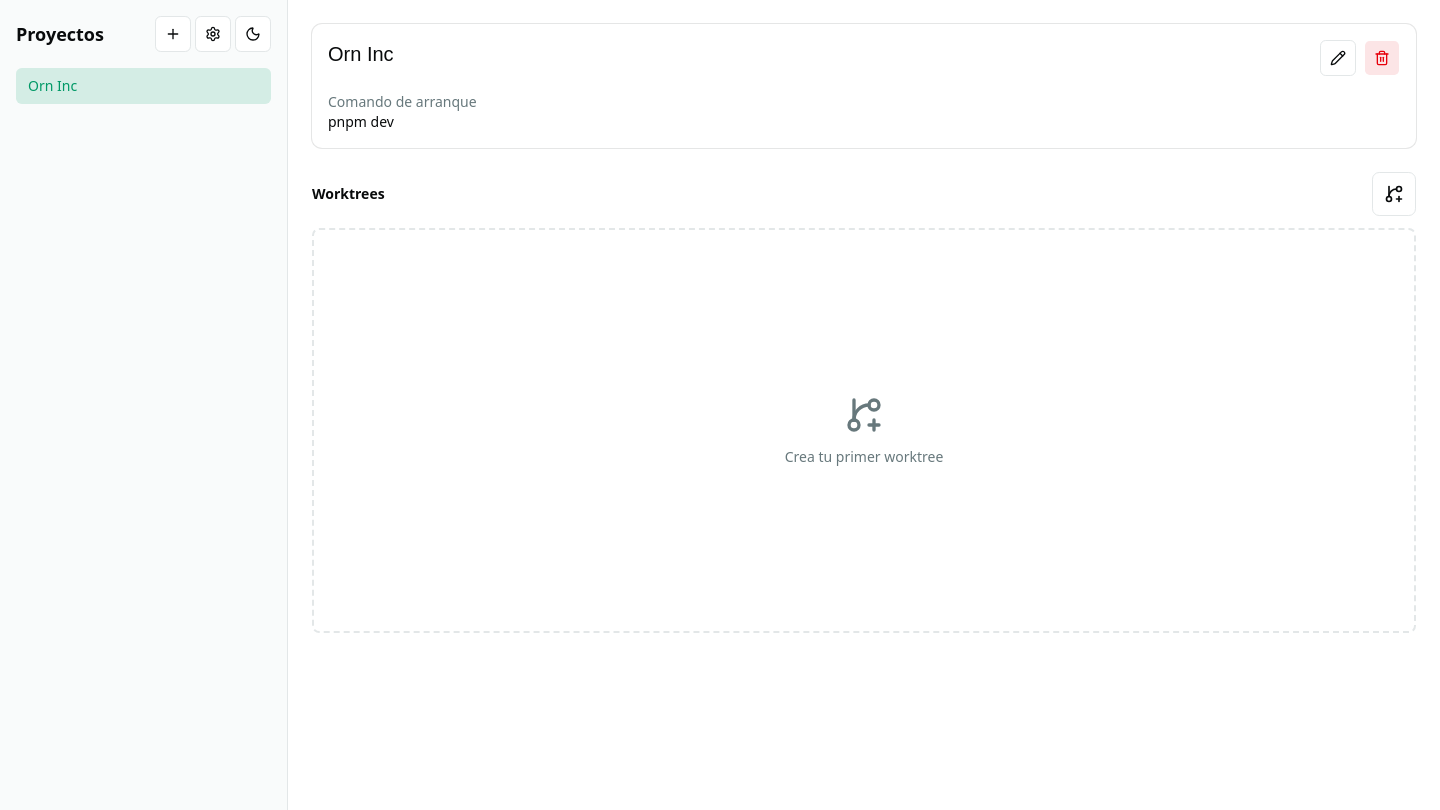
app routes › should show the log history when opening the logs dialog for a worktree
Expected: the text "Crea tu primer worktree" is shown, [785,446,943,466]
Click the button named "Crear worktree" at point(1394, 194), box [1372,172,1416,216]
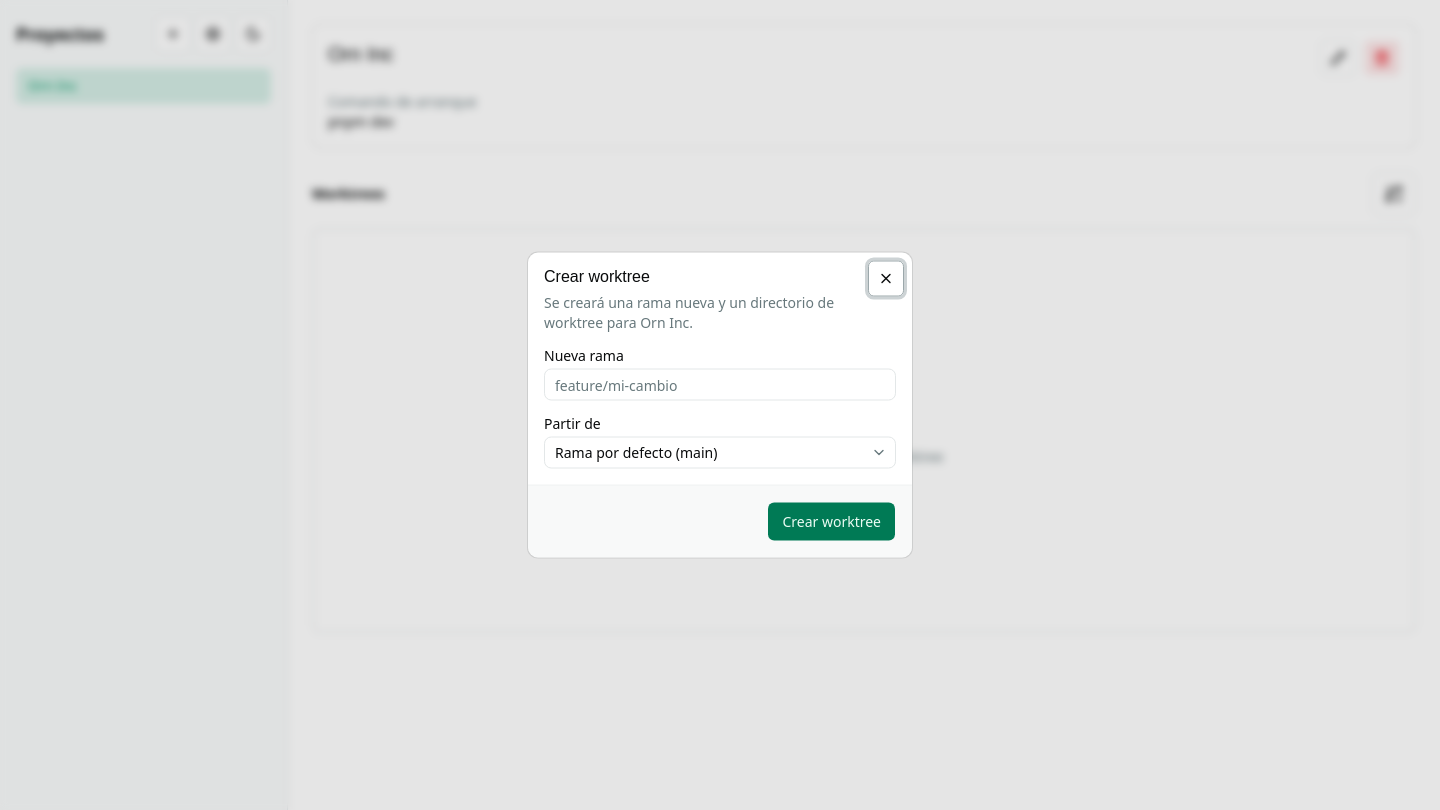
Type "feature-a" into the field labelled "Nueva rama" at point(720, 384), box [544,368,896,400]
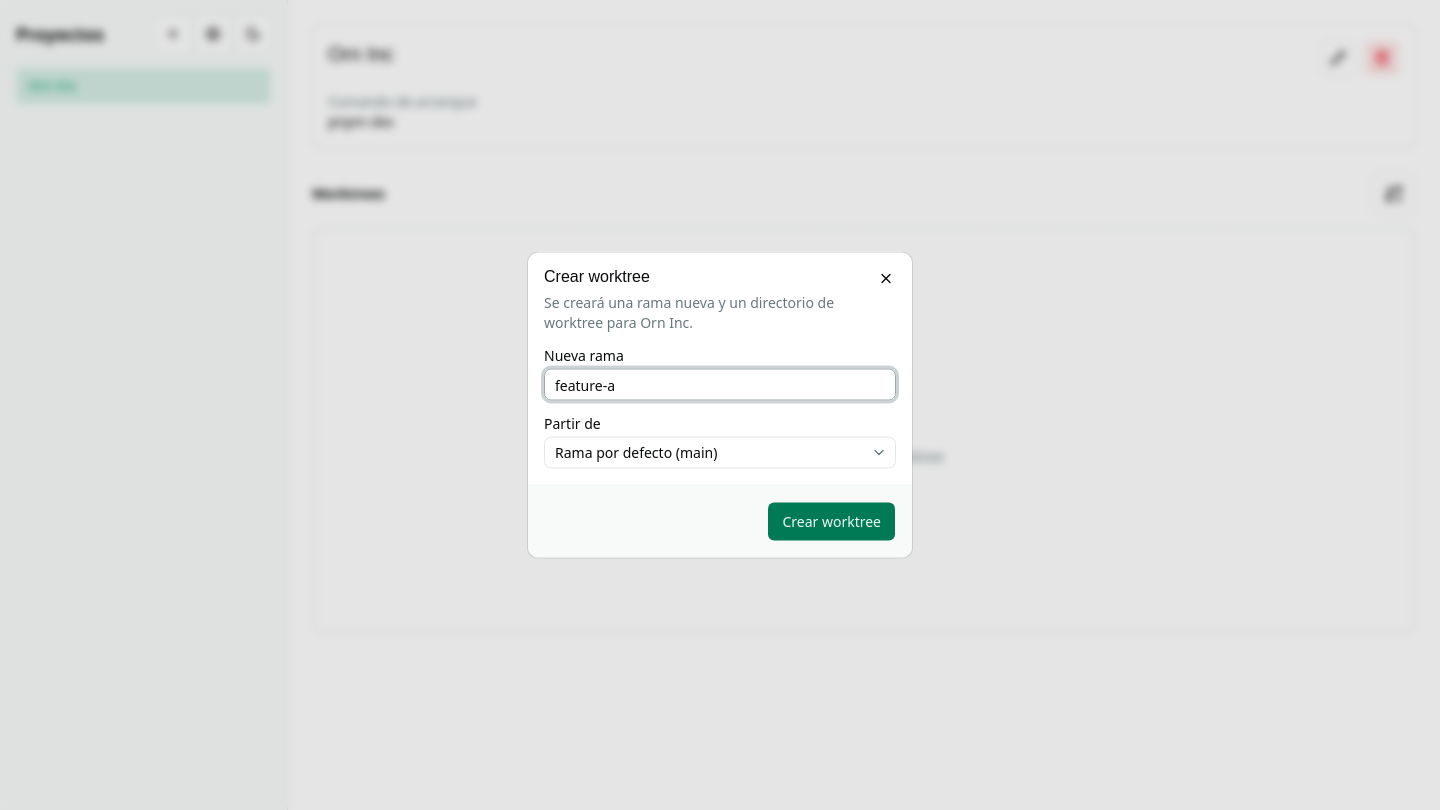
Click the button "Crear worktree" at point(832, 522), box [767,502,896,542]
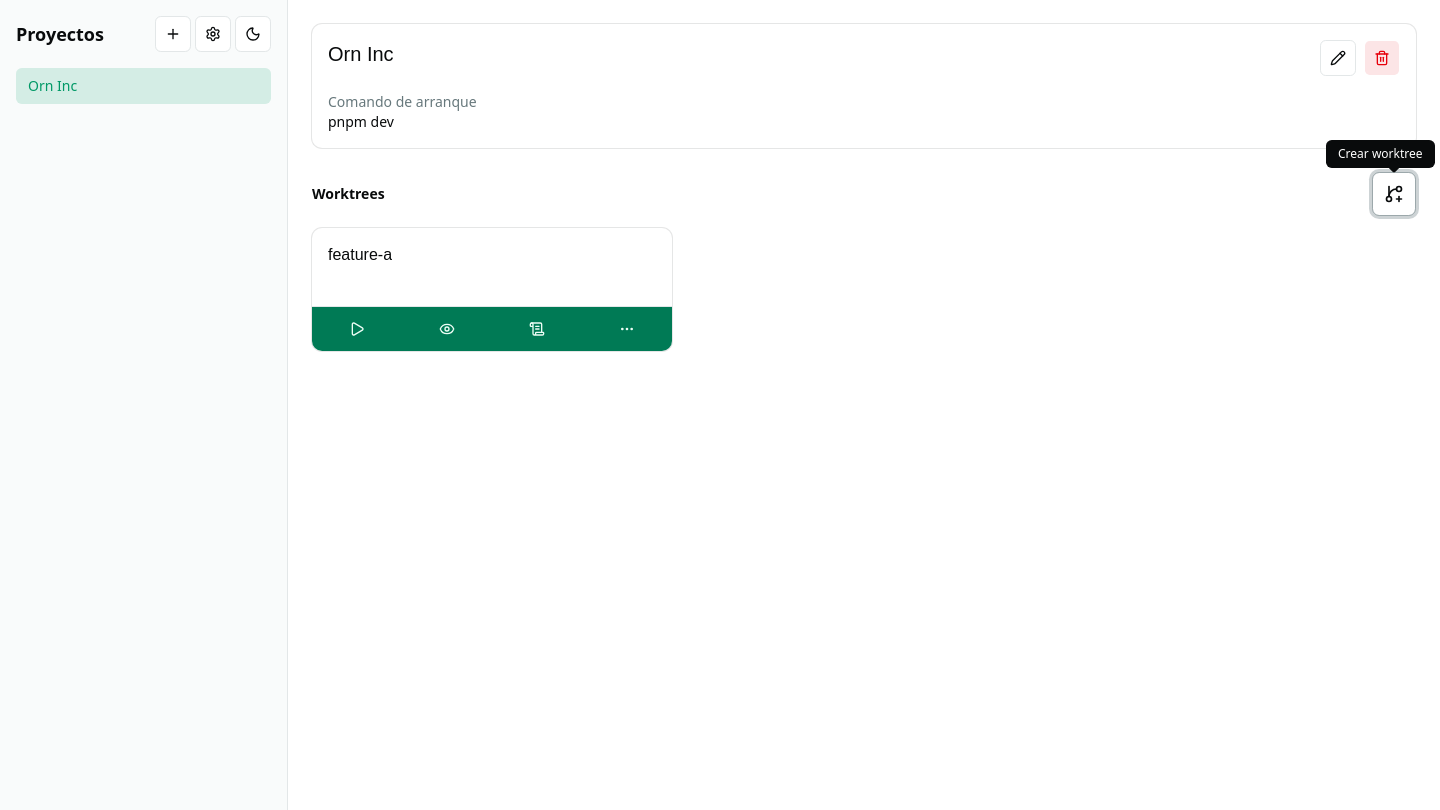
Now the heading "feature-a" is shown, box [328,244,392,266]
Click the button named "Arrancar" at point(357, 329), box [312,307,402,351]
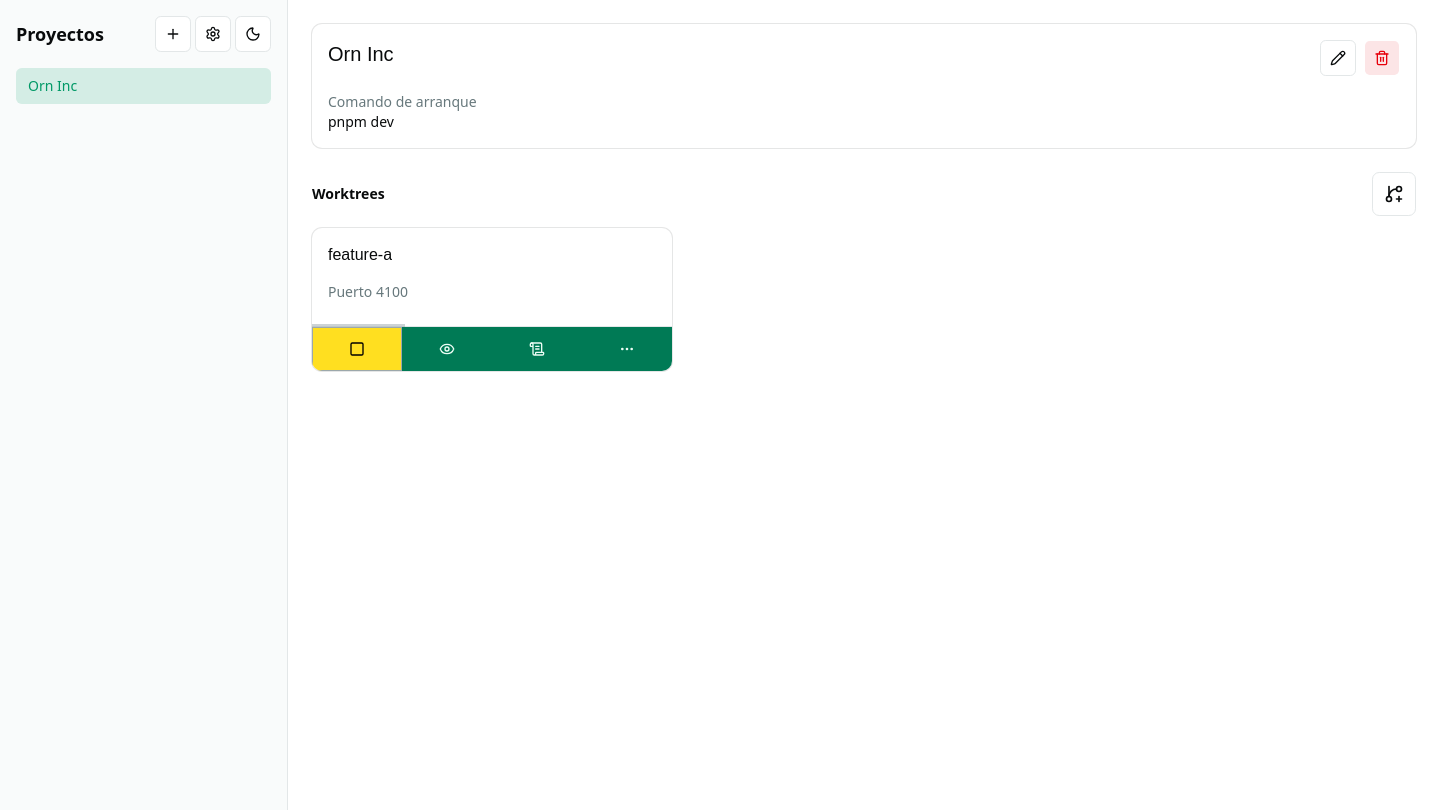
Now the button named "Parar" is shown, box [312,327,402,371]
Click the button named "Logs" at point(537, 349), box [492,327,582,371]
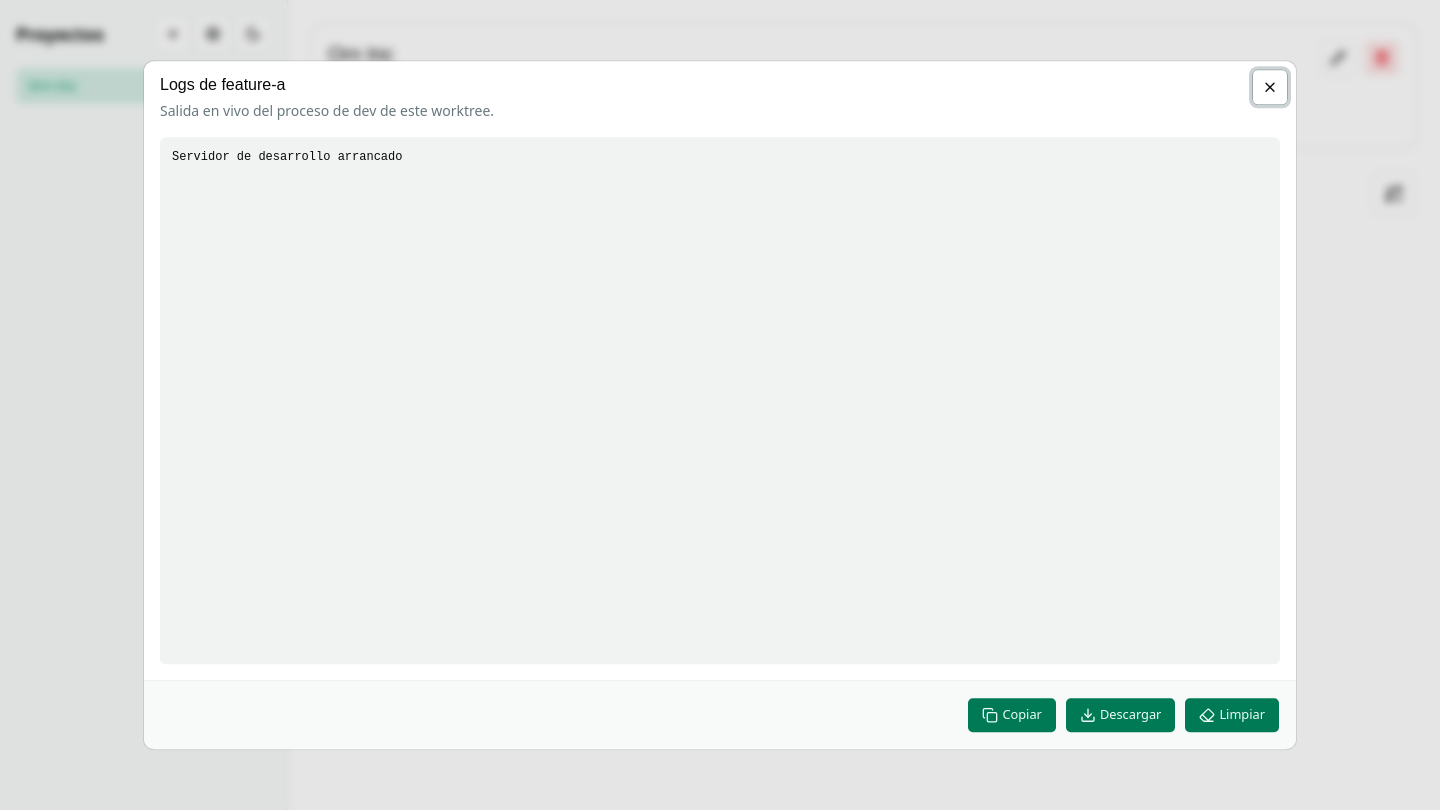
Now the text "Servidor de desarrollo arrancado" is shown, box [172,150,402,164]
